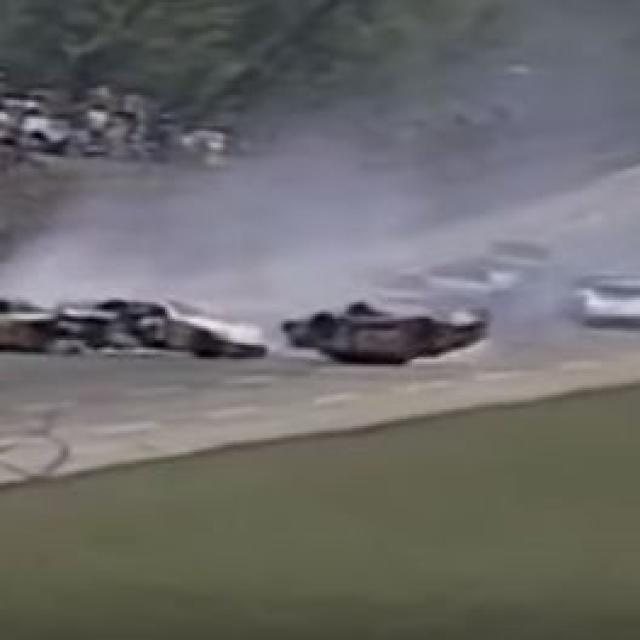traffic_incident: (36, 288, 267, 373), (284, 281, 478, 374)
